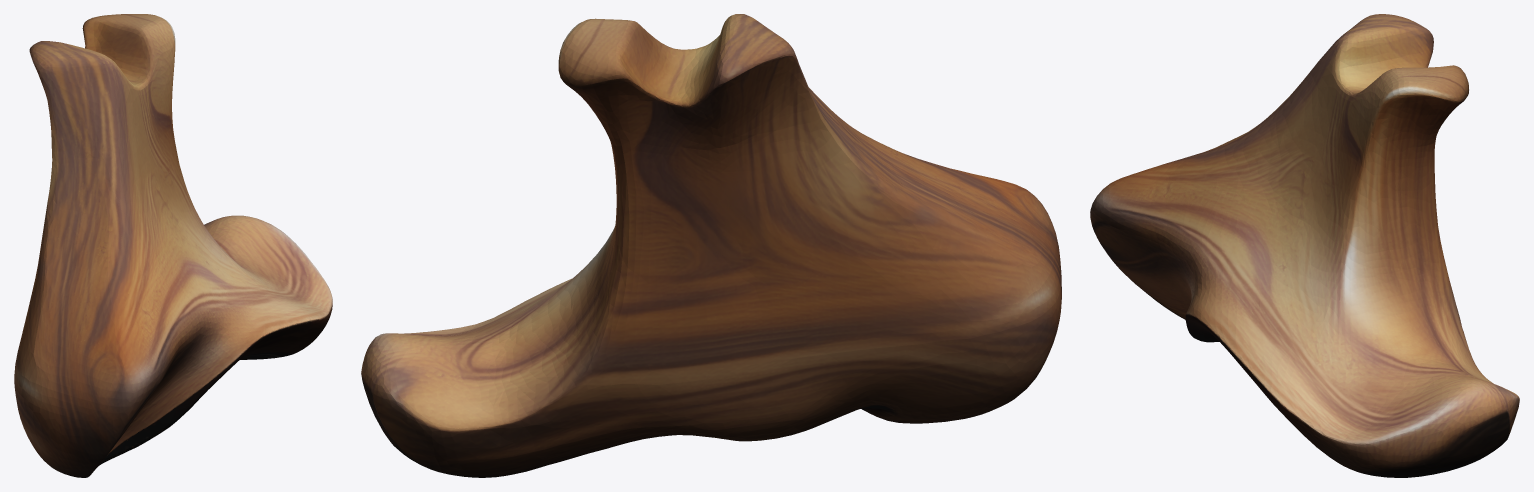
File: wooden-headphone-stand-3d.jpeg.glb
3 renders of one model, left to right at view 1: azimuth 30°, elevation 25°; view 2: azimuth 150°, elevation 25°; view 3: azimuth 270°, elevation 25°, orthographic. The views are drawn at different scales.
Visible parts, largest first — view 1: world; view 2: world; view 3: world.
Part boxes in pixels (x1,y1,x2,y2): world: (14,14,332,477); world: (361,14,1061,477); world: (1090,14,1519,477).
Bounding box in the file's own units: 0.9994 × 0.8626 × 0.9502.
1 material, 1 textured.
